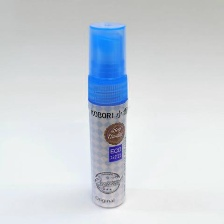cleaning_solution: (83, 18, 129, 210)
